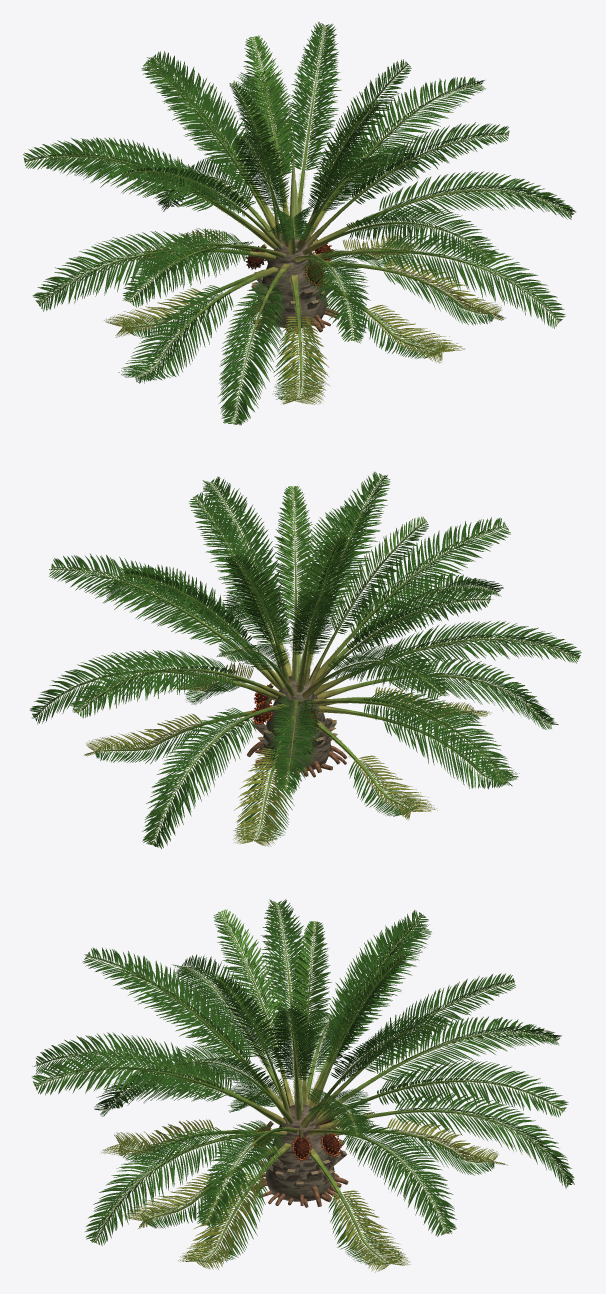
File: young-oil-palm-tree-with-first-fruit-bunches.glb
3 renders of one model, top to bottom at view 1: azimuth 30°, elevation 25°; view 2: azimuth 150°, elevation 25°; view 3: azimuth 270°, elevation 25°, orthographic.
Parts seen in each view (by area): view 1: Pinnate leaflets in two ranks per side (alpha-cut), petiole , Frond petioles and rachises (spiny petioles), Young oil palm base (stem bulb), Roots, spear leaves, bunch cores, spines and stalks, Persistent cut frond bases (boots); view 2: Pinnate leaflets in two ranks per side (alpha-cut), petiole , Frond petioles and rachises (spiny petioles), Young oil palm base (stem bulb), Roots, spear leaves, bunch cores, spines and stalks, Persistent cut frond bases (boots); view 3: Pinnate leaflets in two ranks per side (alpha-cut), petiole , Frond petioles and rachises (spiny petioles), Young oil palm base (stem bulb), Roots, spear leaves, bunch cores, spines and stalks, Persistent cut frond bases (boots).
Part boxes in pixels (left/top/right/bottom): Pinnate leaflets in two ranks per side (alpha-cut), petiole : left=23, top=22, right=575, bottom=425; Frond petioles and rachises (spiny petioles): left=25, top=25, right=571, bottom=424; Young oil palm base (stem bulb): left=258, top=234, right=326, bottom=328; Roots, spear leaves, bunch cores, spines and stalks: left=247, top=156, right=339, bottom=333; Persistent cut frond bases (boots): left=251, top=259, right=333, bottom=309; Pinnate leaflets in two ranks per side (alpha-cut), petiole : left=30, top=472, right=581, bottom=848; Frond petioles and rachises (spiny petioles): left=35, top=475, right=578, bottom=845; Young oil palm base (stem bulb): left=262, top=675, right=330, bottom=771; Roots, spear leaves, bunch cores, spines and stalks: left=247, top=597, right=347, bottom=777; Persistent cut frond bases (boots): left=252, top=705, right=337, bottom=754; Pinnate leaflets in two ranks per side (alpha-cut), petiole : left=31, top=899, right=574, bottom=1272; Frond petioles and rachises (spiny petioles): left=35, top=903, right=568, bottom=1264; Young oil palm base (stem bulb): left=265, top=1104, right=334, bottom=1201; Roots, spear leaves, bunch cores, spines and stalks: left=249, top=1030, right=348, bottom=1207; Persistent cut frond bases (boots): left=257, top=1140, right=347, bottom=1186.
Size of the model in its own units: 5.74 by 2.67 by 5.67.
Materials: 4 (4 with a texture image).
